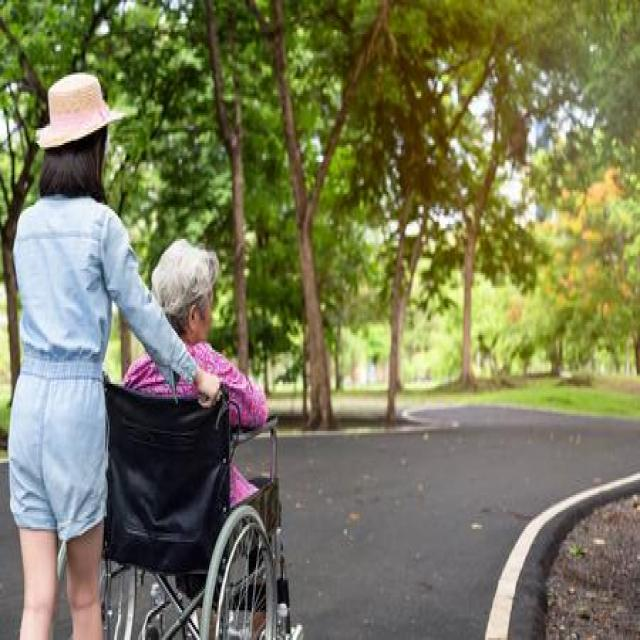wheelchairs: (44, 347, 318, 640)
